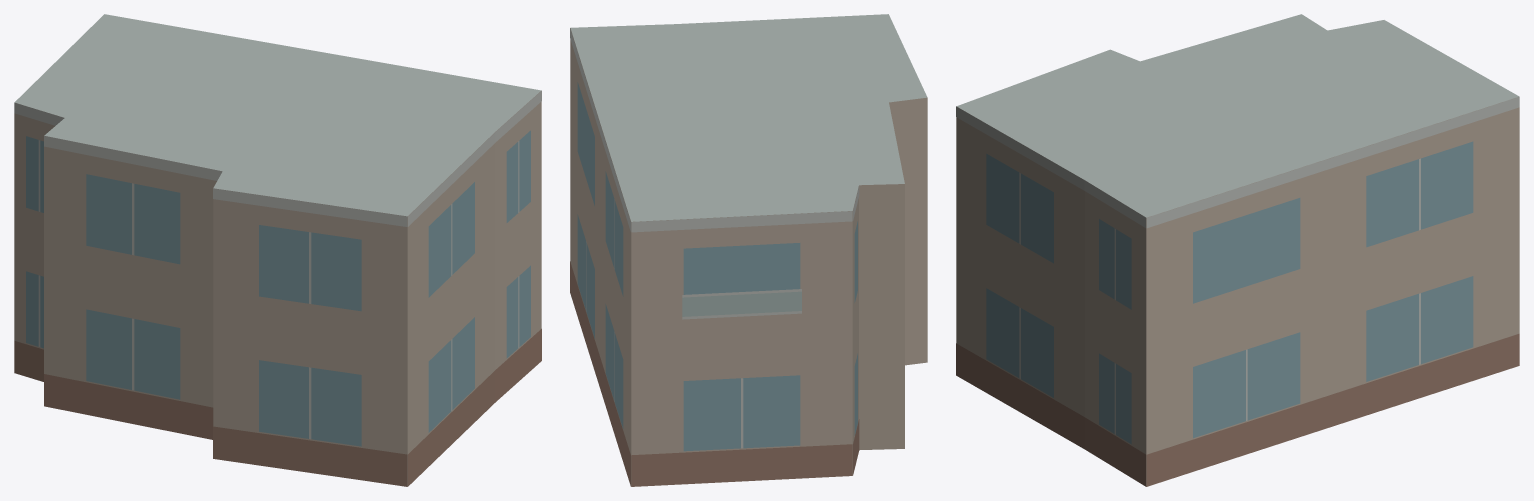
File: survey-upis-32724878.glb
3 renders of one model, left to right at view 1: azimuth 30°, elevation 25°; view 2: azimuth 150°, elevation 25°; view 3: azimuth 270°, elevation 25°, orthographic. The views are drawn at different scales.
Visible parts, largest first — view 1: survey-upis-32724878.tmp; view 2: survey-upis-32724878.tmp; view 3: survey-upis-32724878.tmp.
Part boxes in pixels (left/top/right/bottom): survey-upis-32724878.tmp: left=14, top=14, right=541, bottom=486; survey-upis-32724878.tmp: left=570, top=14, right=927, bottom=486; survey-upis-32724878.tmp: left=956, top=14, right=1519, bottom=486.
Bounding box in the file's own units: 9.91 × 6.1 × 11.58.
